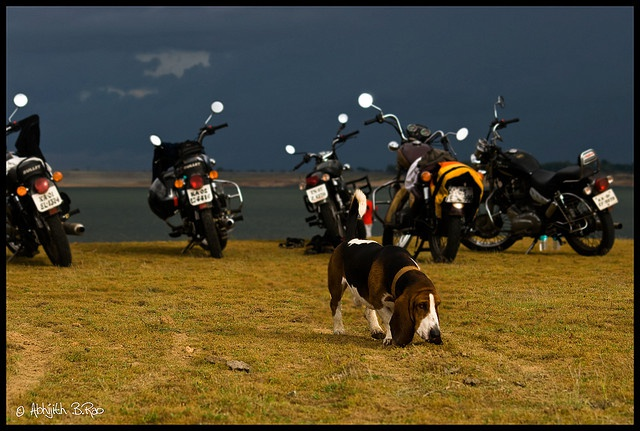non-vehicle: (461, 94, 623, 257), (358, 93, 486, 262), (149, 101, 243, 258), (5, 93, 84, 265), (285, 113, 372, 248)
